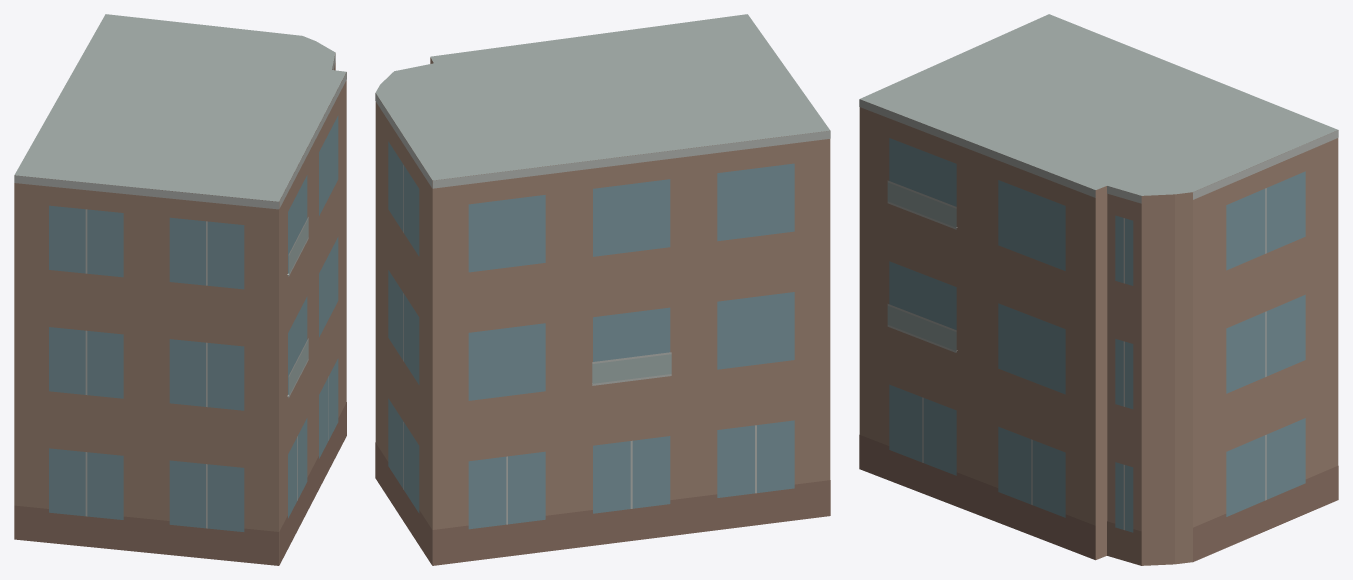
The model's file is survey-upis-32922135.glb.
3 renders of one model, left to right at view 1: azimuth 30°, elevation 25°; view 2: azimuth 150°, elevation 25°; view 3: azimuth 270°, elevation 25°, orthographic. The views are drawn at different scales.
Parts seen in each view (by area): view 1: survey-upis-32922135.tmp; view 2: survey-upis-32922135.tmp; view 3: survey-upis-32922135.tmp.
Part boxes in pixels (x1,y1,x2,y2): survey-upis-32922135.tmp: [14, 14, 346, 565]; survey-upis-32922135.tmp: [375, 14, 830, 565]; survey-upis-32922135.tmp: [859, 14, 1338, 565].
Bounding box in the file's own units: 12.13 × 11.5 × 13.5.
